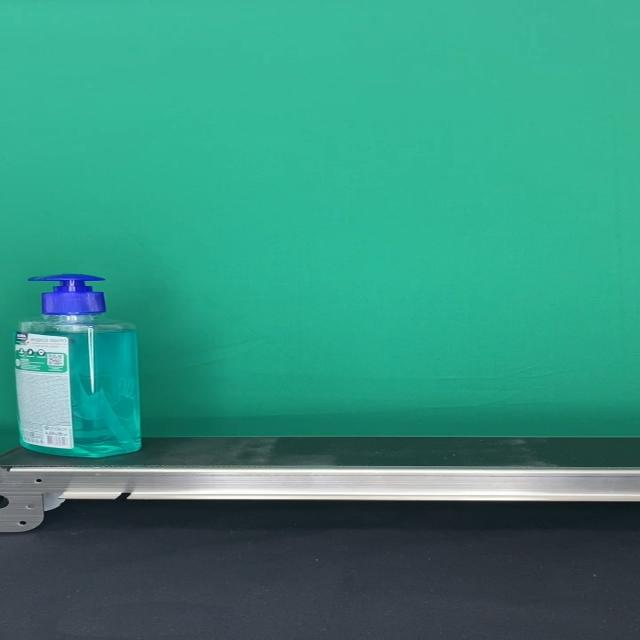Bottle: (14, 274, 141, 458)
Cap: (24, 274, 105, 316)
